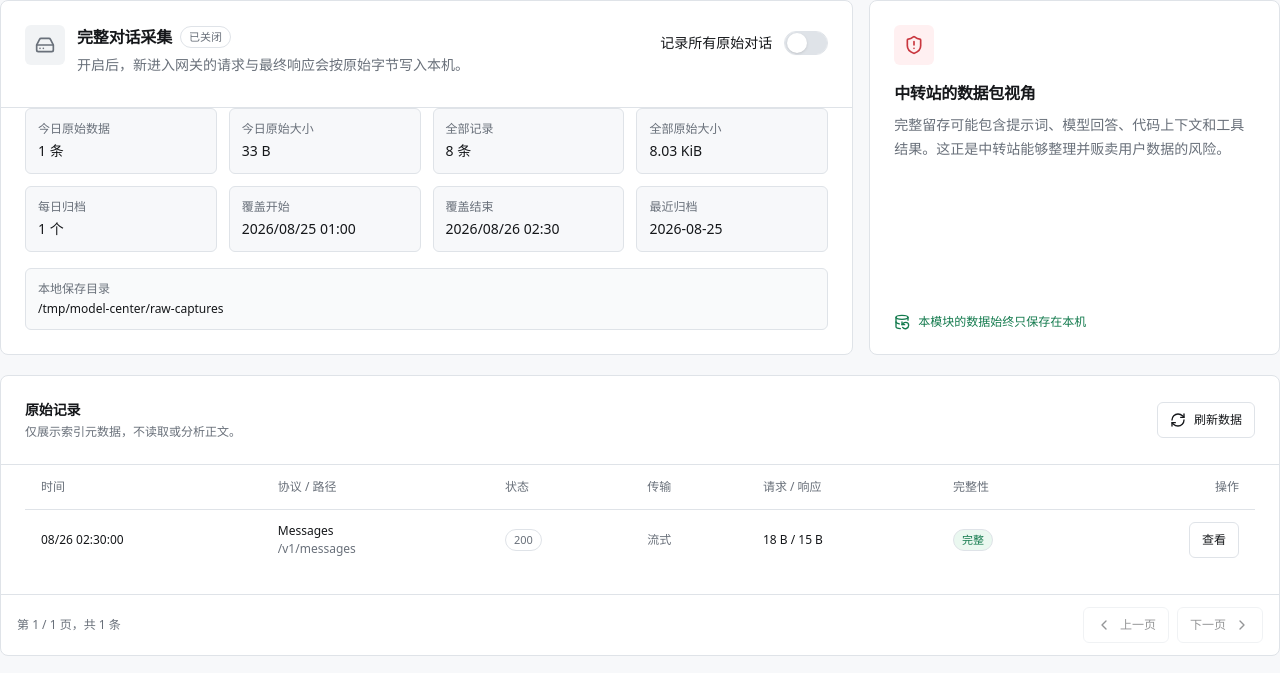
Test: RawDataClient › requires confirmation before enabling full raw capture
Click the switch named "记录所有原始对话" at (806, 43), box [784, 31, 828, 55]
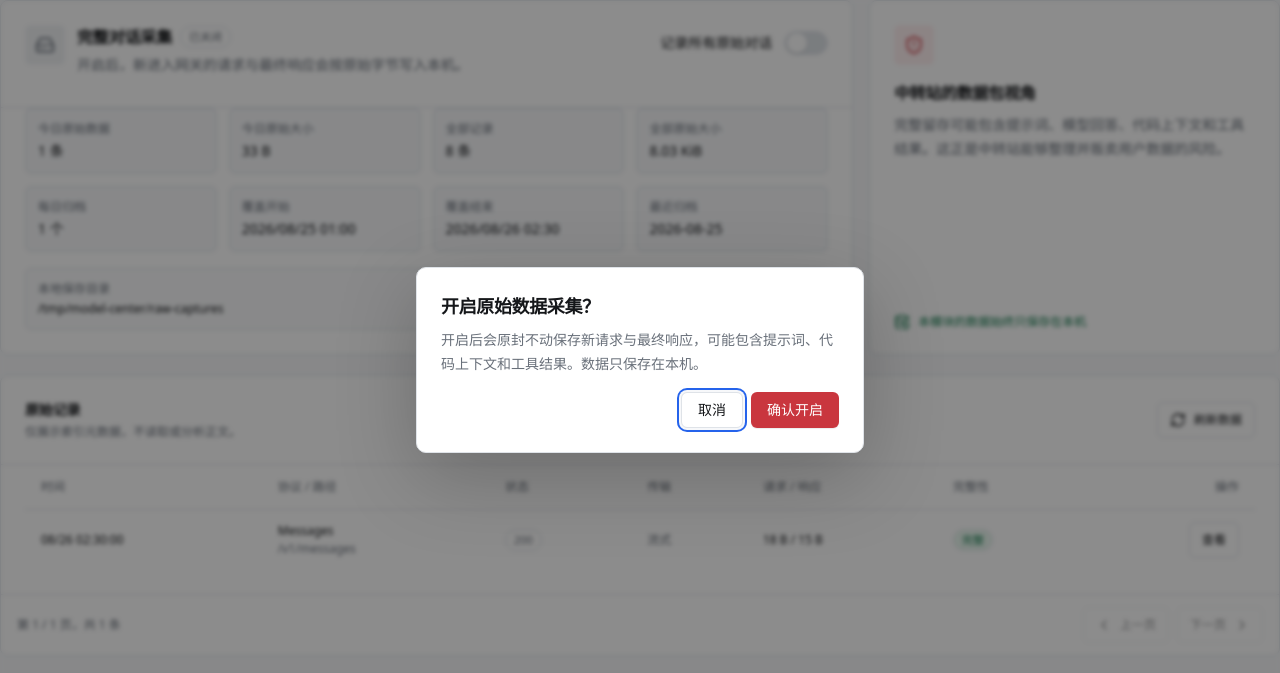
Expected: the dialog "开启原始数据采集？" is shown, [416, 267, 864, 453]
Click the button "确认开启" at (795, 410), box [751, 392, 839, 428]
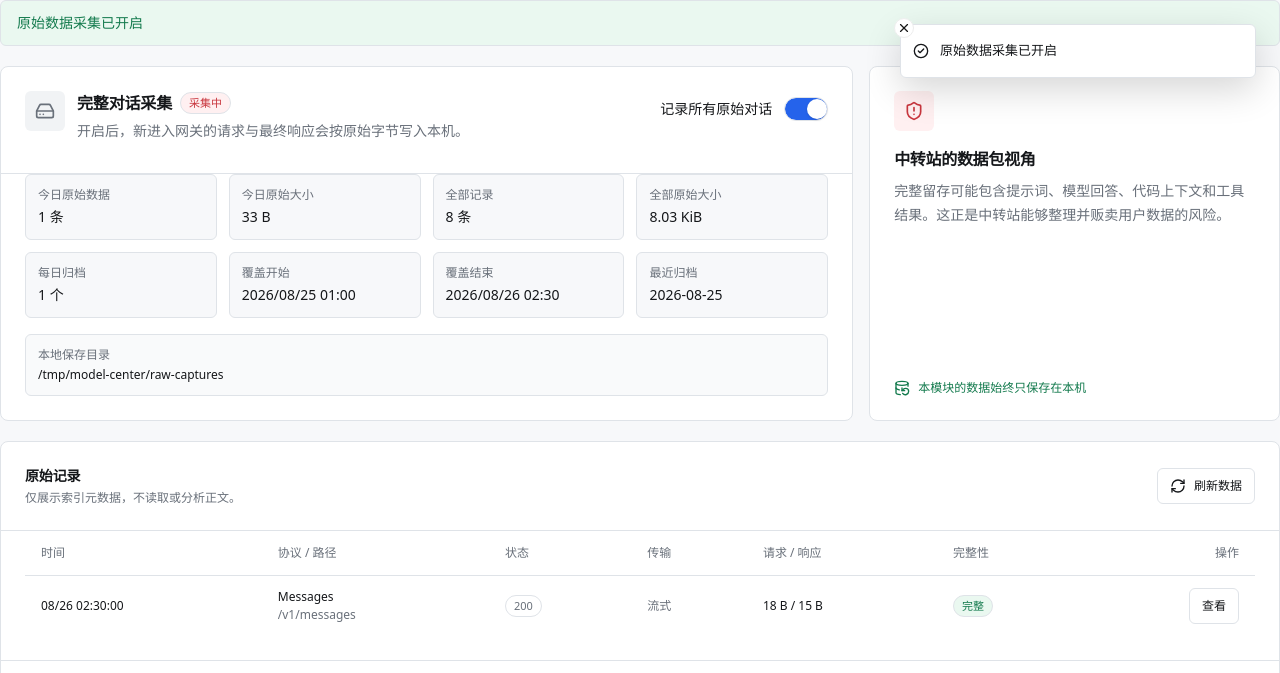
Expected: the message reads "原始数据采集已开启", [17, 13, 143, 32]
